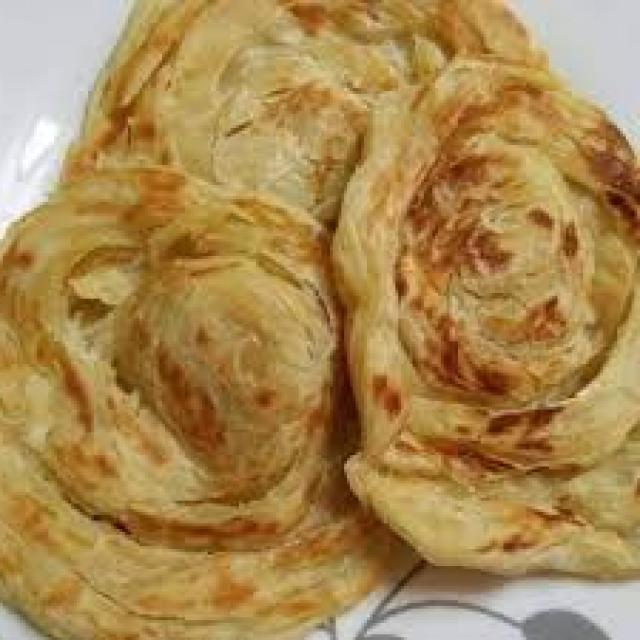Paratha: (0, 157, 427, 640), (62, 0, 569, 320), (350, 68, 640, 589)
